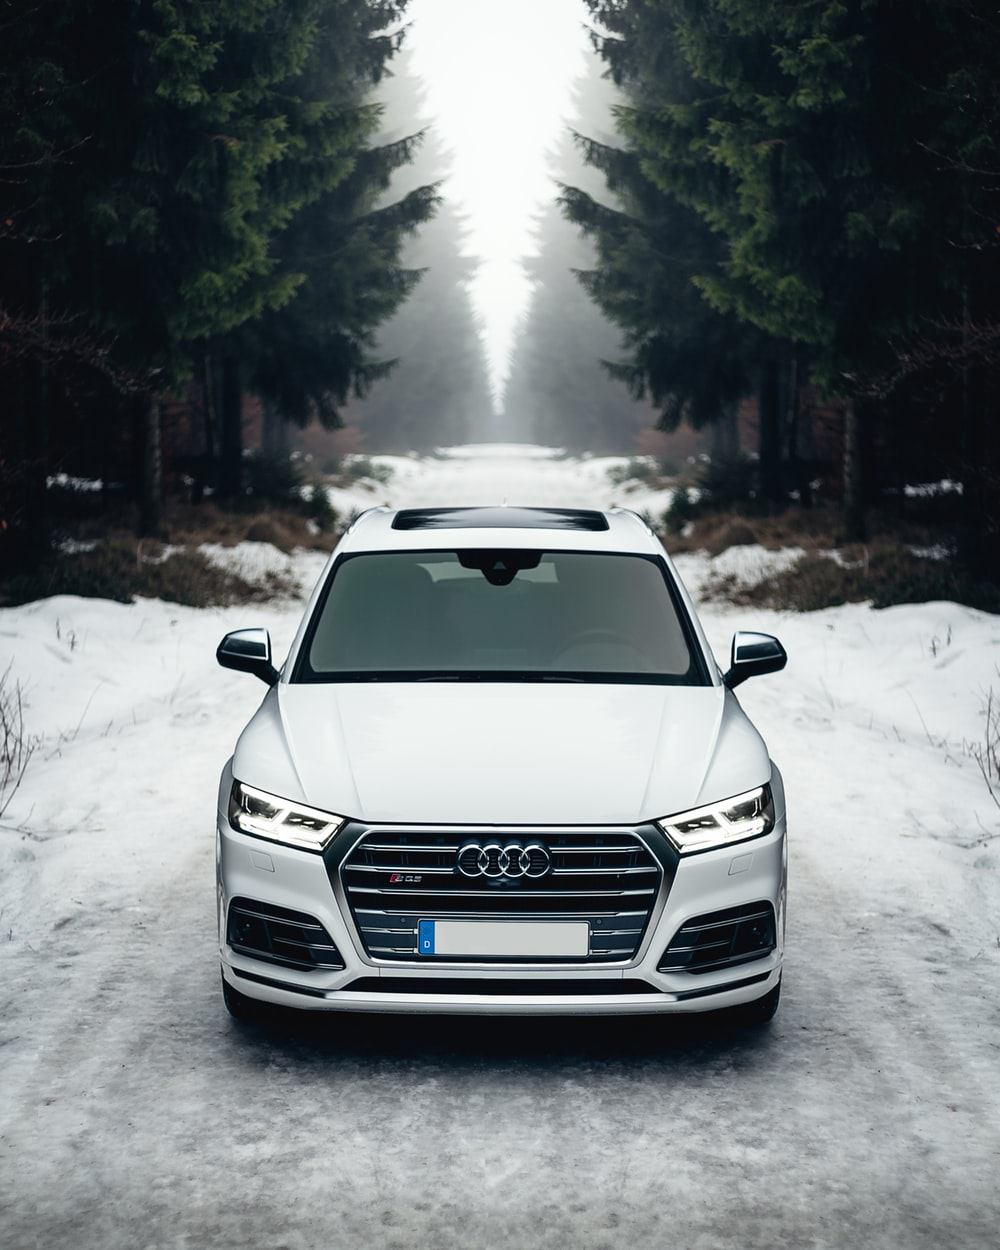audi: (199, 486, 801, 1086)
